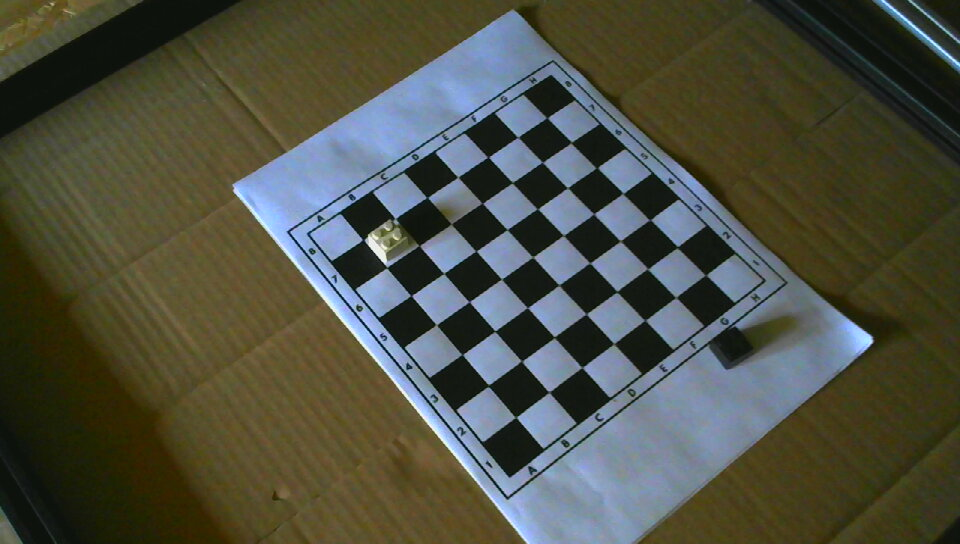bp: (710, 326, 753, 369)
wp: (367, 219, 410, 262)
